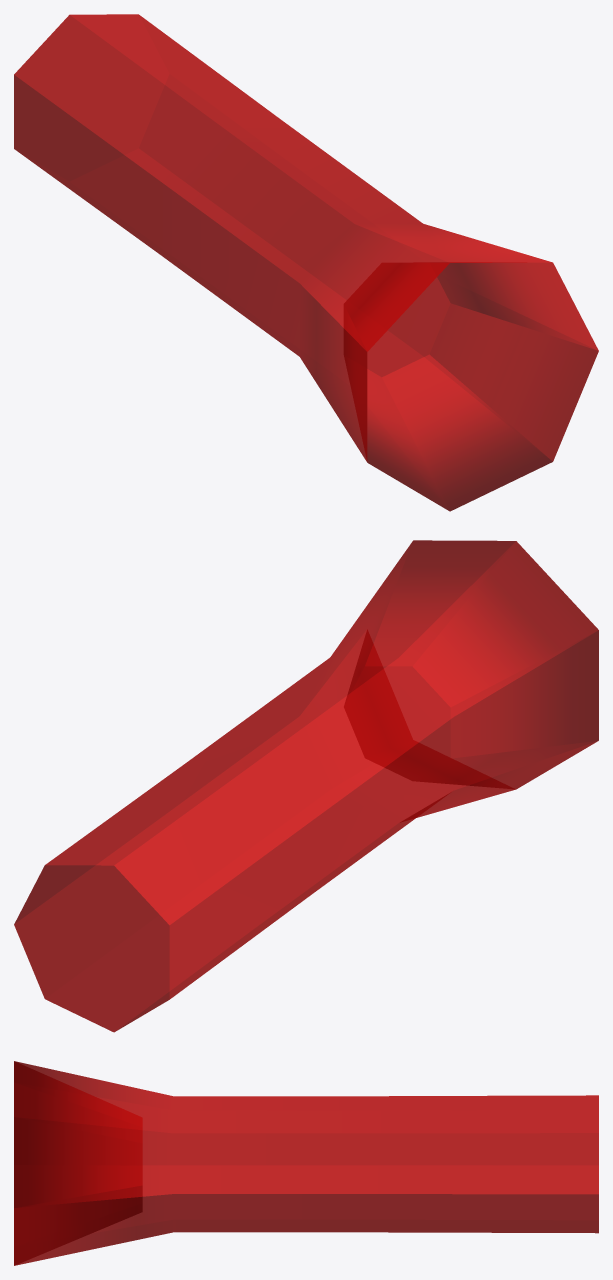
File: Gun.dae
3 views of the same model, one above another, from view 1: azimuth 30°, elevation 25°; view 2: azimuth 150°, elevation 25°; view 3: azimuth 270°, elevation 25° (orthographic). The views are drawn at different scales.
Visible parts, largest first — view 1: pasted__pCylinder1; view 2: pasted__pCylinder1; view 3: pasted__pCylinder1.
Part boxes in pixels (x1,y1,x2,y2): pasted__pCylinder1: (14, 14, 598, 511); pasted__pCylinder1: (14, 540, 598, 1032); pasted__pCylinder1: (14, 1061, 598, 1265).
Bounding box in the file's own units: 2.96 × 3.04 × 8.66.
